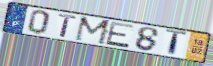0: (26, 9, 52, 36)
8: (135, 26, 160, 52)
E: (104, 21, 136, 50)
M: (73, 15, 113, 46)
T: (164, 28, 189, 58), (57, 13, 78, 39)
